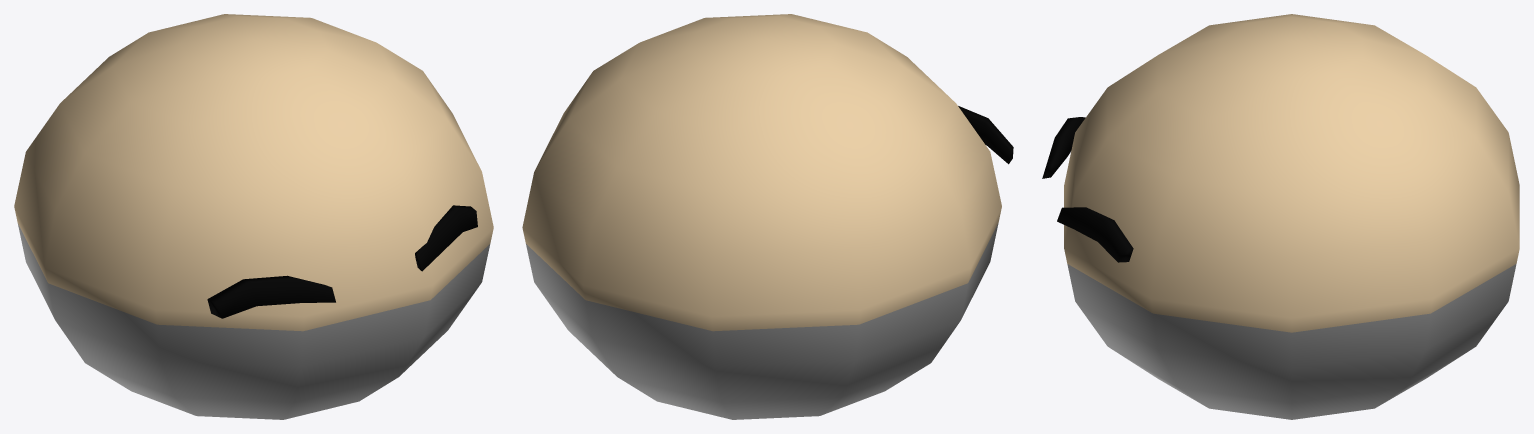
Rendered from skin_head_1.fbx.
The picture shows the model from 3 angles, left to right: view 1: azimuth 30°, elevation 25°; view 2: azimuth 150°, elevation 25°; view 3: azimuth 270°, elevation 25°; orthographic projection.
Visible parts, largest first — view 1: polySurface5; view 2: polySurface5; view 3: polySurface5.
Part boxes in pixels (<box>): polySurface5: <box>14,14,493,419</box>; polySurface5: <box>522,14,1013,419</box>; polySurface5: <box>1042,14,1519,419</box>.
Size of the model in its own units: 57.86 by 47.05 by 57.67.
